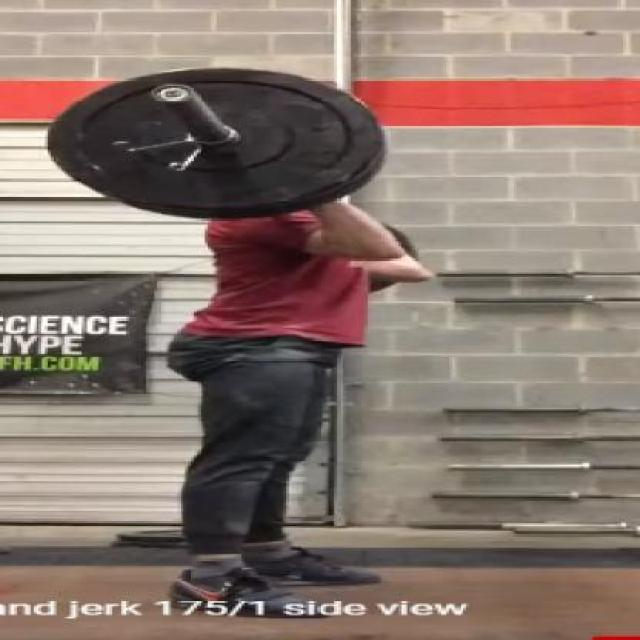barbell: (40, 64, 404, 226)
